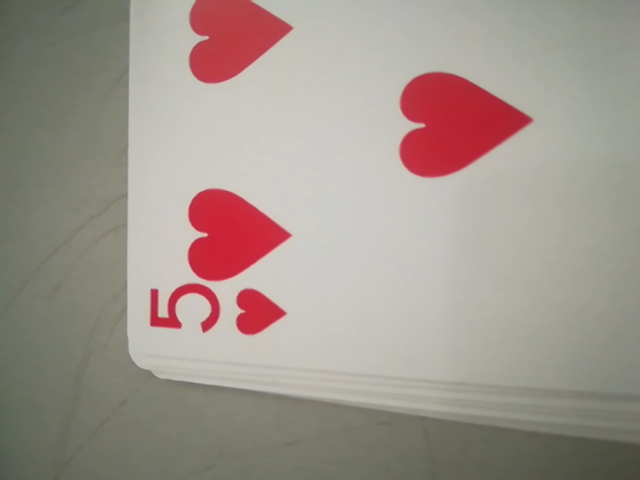hx 5: (140, 274, 296, 349)
